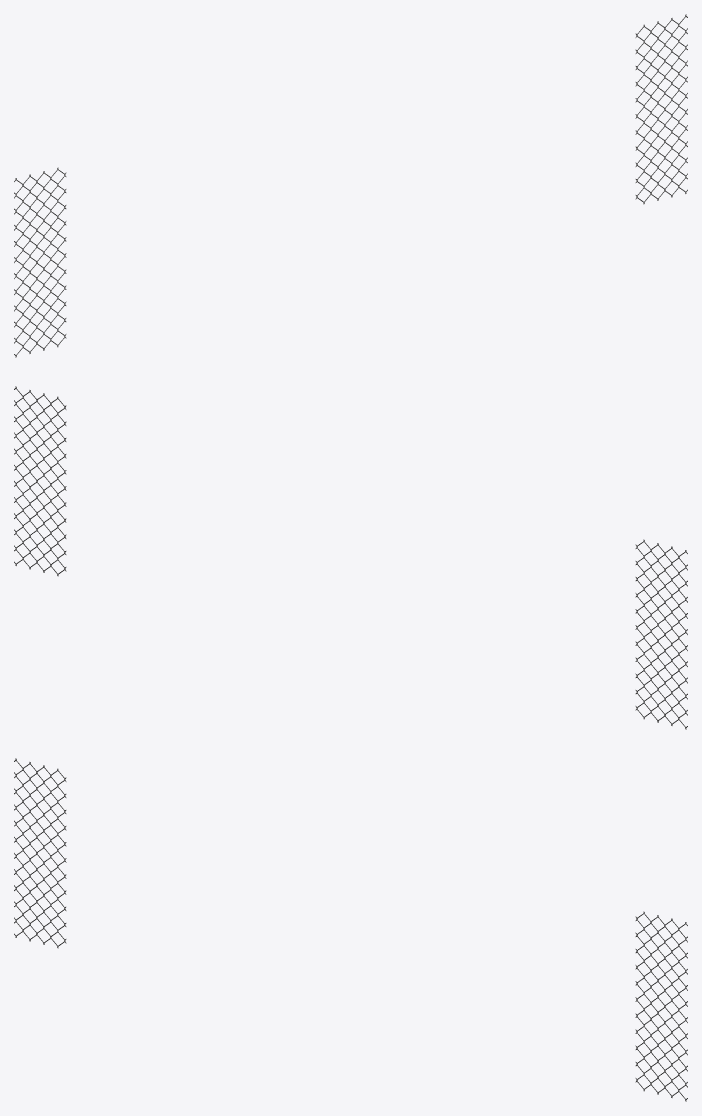
The model's file is Concrete_fence_v2_Gate_lattice.001.glb.
3 views of the same model, one above another, from view 1: azimuth 30°, elevation 25°; view 2: azimuth 150°, elevation 25°; view 3: azimuth 330°, elevation 25° (orthographic).
Visible parts, largest first — view 1: Concrete_fence_v2_Gate_lattice.001; view 2: Concrete_fence_v2_Gate_lattice.001; view 3: Concrete_fence_v2_Gate_lattice.001.
Boxes of the visible parts, box(x1,y1,x2,y2) form: Concrete_fence_v2_Gate_lattice.001: box(14, 14, 687, 357); Concrete_fence_v2_Gate_lattice.001: box(14, 386, 687, 729); Concrete_fence_v2_Gate_lattice.001: box(14, 758, 687, 1101).
Size of the model in its own units: 5.64 by 1.43 by 0.
1 material, 1 textured.
